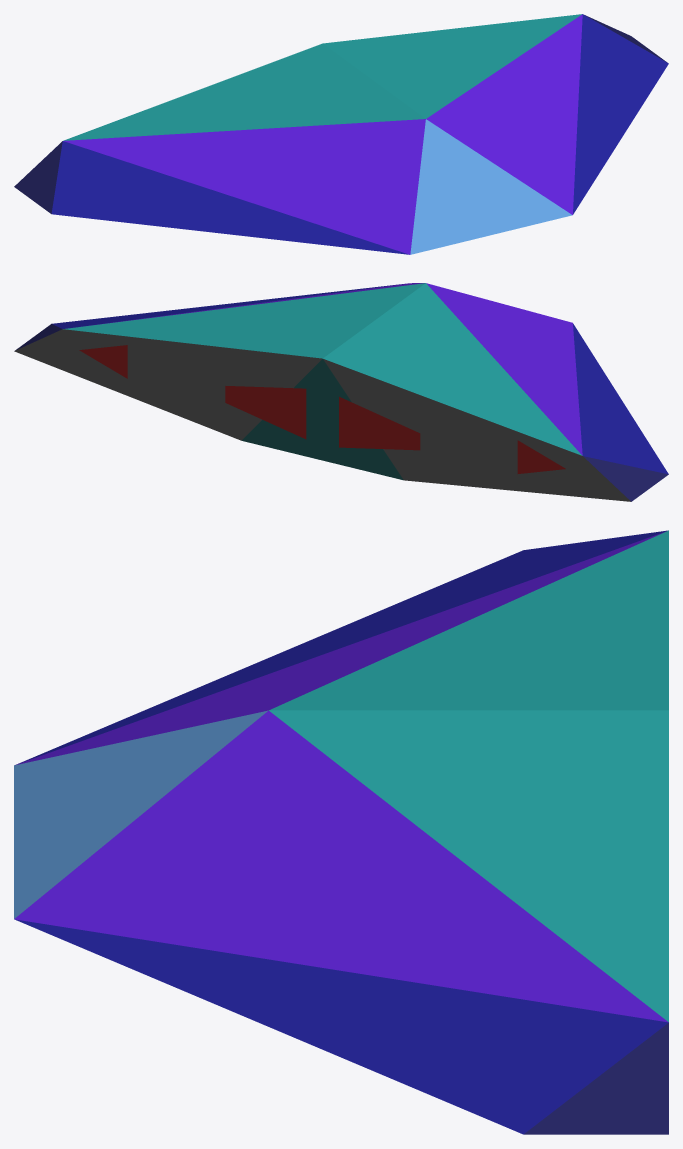
The model's file is arc_cobra_mk3.glb.
3 views of the same model, one above another, from view 1: azimuth 30°, elevation 25°; view 2: azimuth 150°, elevation 25°; view 3: azimuth 270°, elevation 25° (orthographic). The views are drawn at different scales.
Visible parts, largest first — view 1: griff_arcelite_cobra3; view 2: griff_arcelite_cobra3, griff_arcelite_cobra3.002, griff_arcelite_cobra3.003, griff_arcelite_cobra3.004, griff_arcelite_cobra3.001; view 3: griff_arcelite_cobra3.
Part boxes in pixels (x1,y1,x2,y2): griff_arcelite_cobra3: (14,14,668,254); griff_arcelite_cobra3: (14,283,668,501); griff_arcelite_cobra3.002: (225,386,306,439); griff_arcelite_cobra3.003: (339,396,420,450); griff_arcelite_cobra3.004: (517,440,565,473); griff_arcelite_cobra3.001: (79,345,127,378); griff_arcelite_cobra3: (14,530,668,1134).
Bounding box in the file's own units: 1.39 × 0.219 × 0.657.
Materials: 1 (1 with a texture image).
